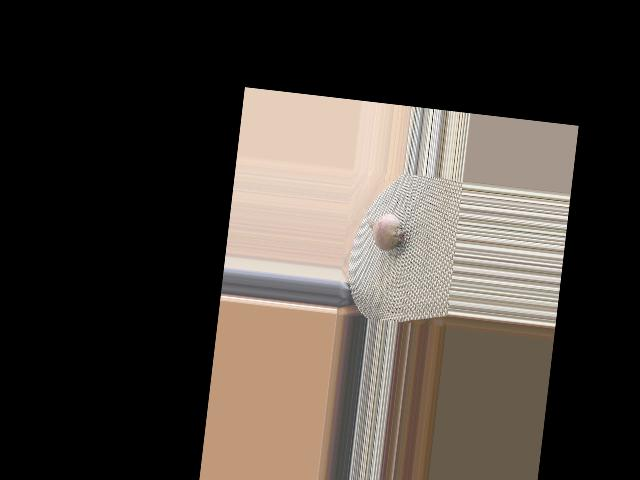beet: (358, 204, 410, 258)
